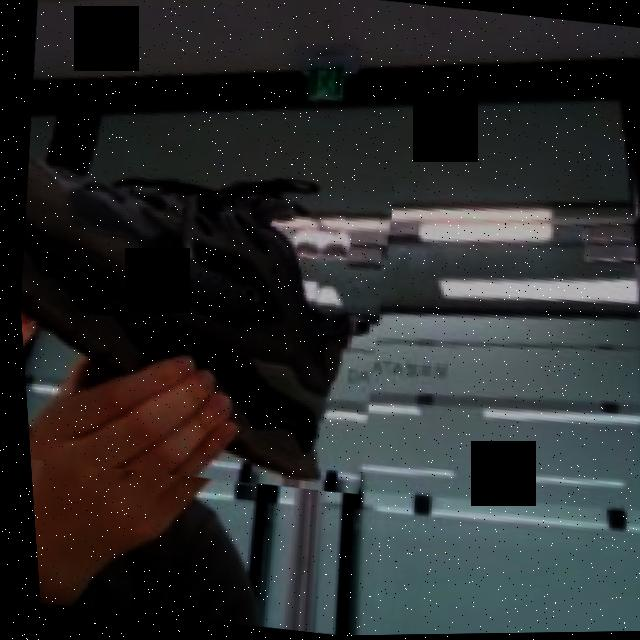shoe: (7, 123, 410, 501)
